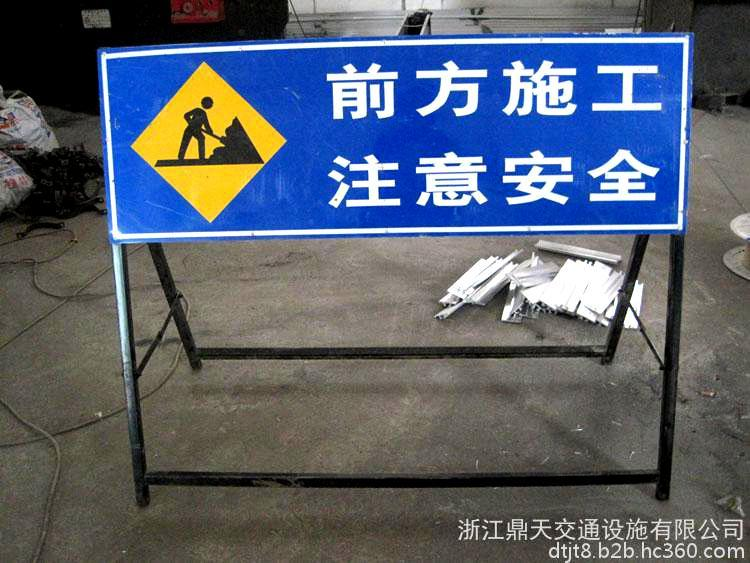sign: (98, 37, 687, 253)
